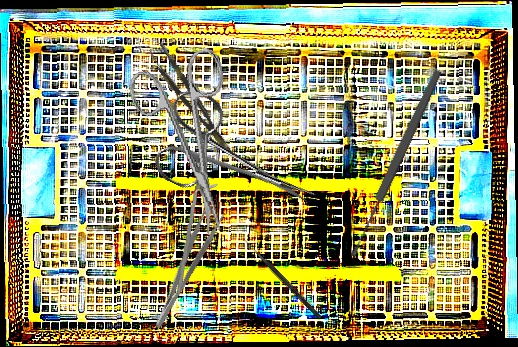Dressing Forceps: (142, 203, 227, 332)
Hook Surgical: (241, 237, 323, 320)
Iris Scissors: (143, 83, 335, 241), (123, 46, 259, 245)
Needle Holder: (175, 134, 221, 296)
Surgical Spoon: (346, 66, 445, 260)
Tissue Forceps: (146, 41, 235, 163)
